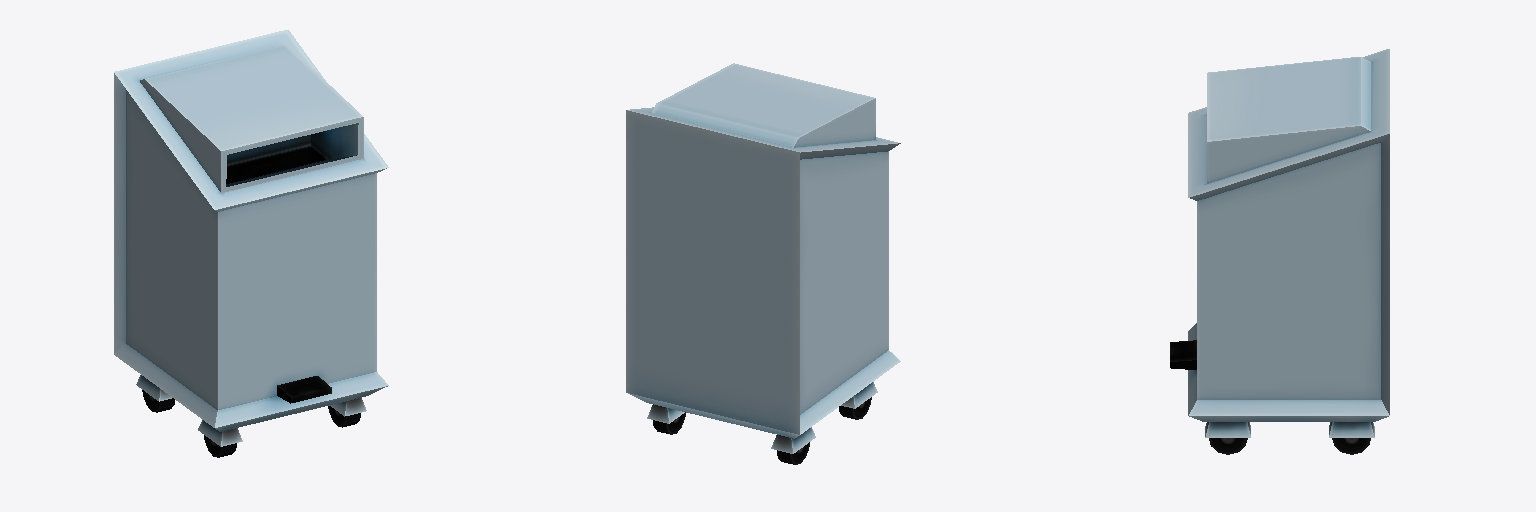
3 views of the same model, side by side, from view 1: azimuth 30°, elevation 25°; view 2: azimuth 150°, elevation 25°; view 3: azimuth 270°, elevation 25° (orthographic).
Parts seen in each view (by area): view 1: Bin1; view 2: Bin1; view 3: Bin1.
Boxes of the visible parts, <box> form: Bin1: <box>114,30,388,457</box>; Bin1: <box>626,63,900,464</box>; Bin1: <box>1170,49,1389,454</box>.
Size of the model in its own units: 0.5 by 0.9025 by 0.5458.
1 materials, 1 textured.